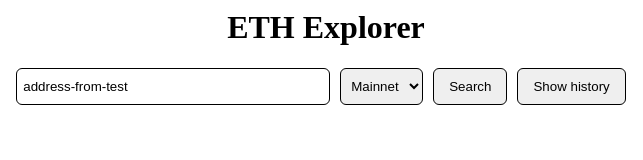
Test: SearchForm › url parameter › should validate address
The width and height of the screenshot is (643, 160).
Type "abc" into the field at (173, 86), box [16,68,330,105]
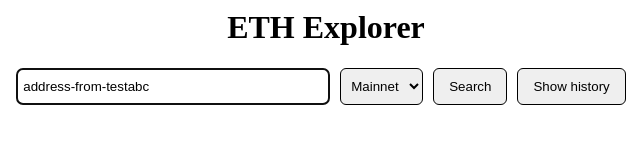
Click the button "Search" at (470, 86), box [433,68,507,105]
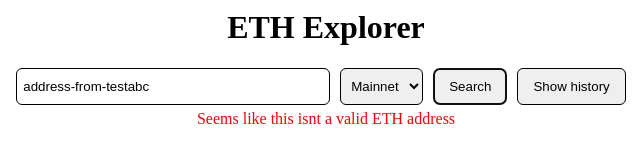
Now the text with test id "error-message" reads "Seems like this isnt a valid ETH address", box [197,110,455,127]
